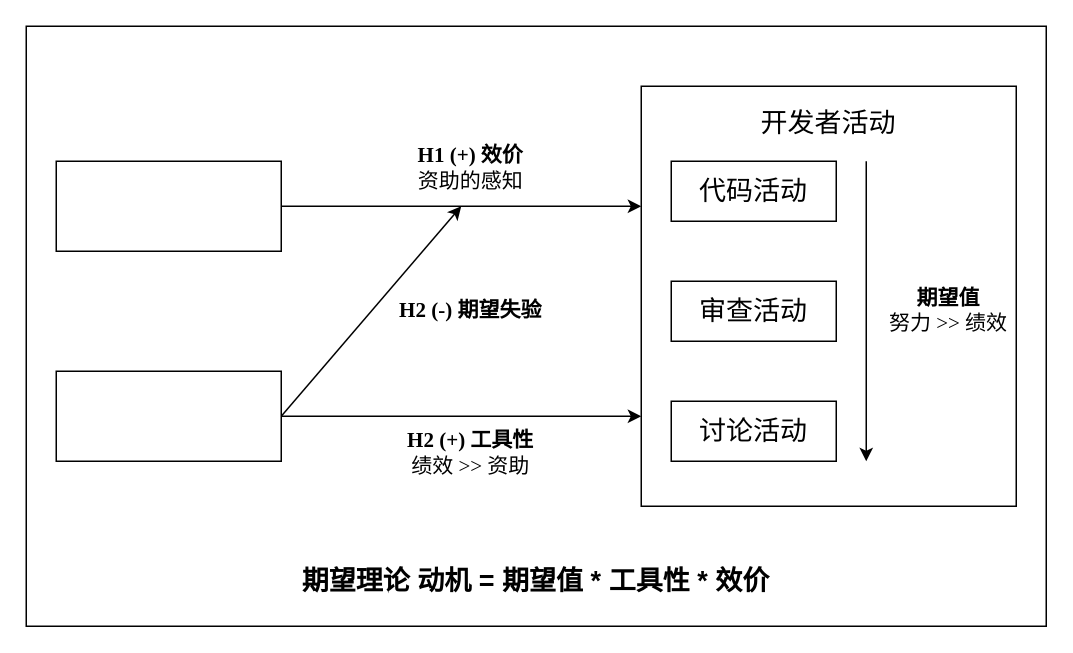
Image size: 1073x653. Some labels were removed from this diagram. The centre of each missing label's shape, as x and y in pixels:
"定向信息披露" goes at (168,415).
"非定向信息披露" goes at (168,205).
